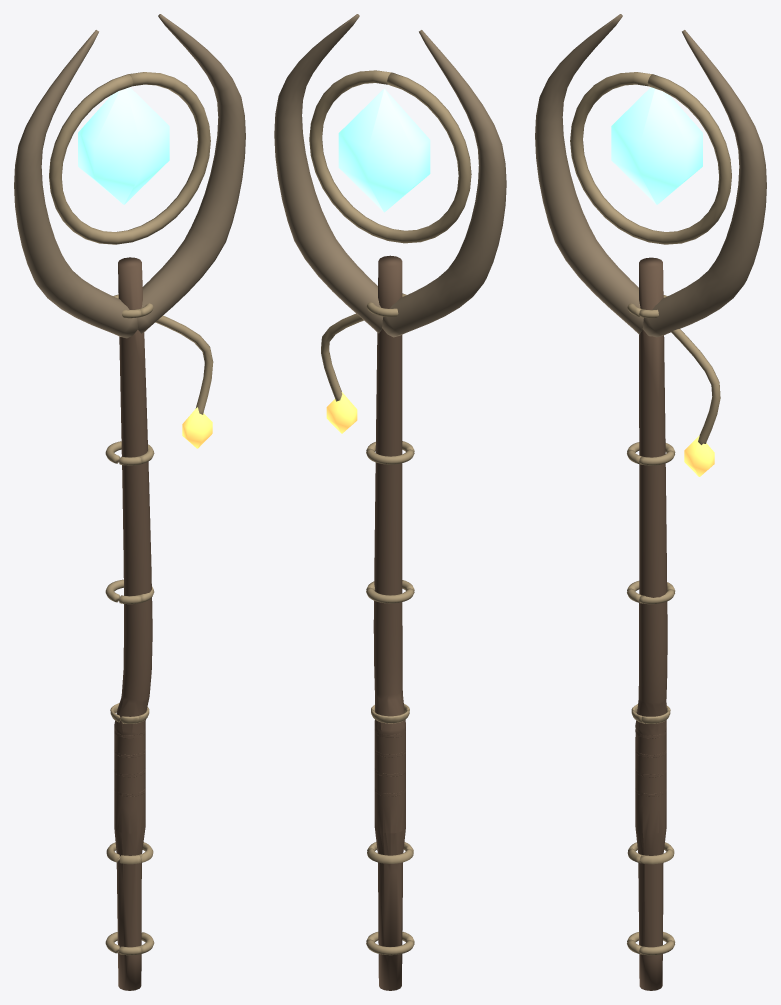
File: guardian_1-fitted.glb
The picture shows the model from 3 angles, left to right: view 1: azimuth 30°, elevation 25°; view 2: azimuth 150°, elevation 25°; view 3: azimuth 330°, elevation 25°; orthographic projection.
Visible parts, largest first — view 1: Weapon__bronze, Weapon__leather, Weapon__gold, Weapon__soul, Weapon__ember; view 2: Weapon__bronze, Weapon__leather, Weapon__gold, Weapon__soul, Weapon__ember; view 3: Weapon__bronze, Weapon__leather, Weapon__gold, Weapon__soul, Weapon__ember.
Boxes of the visible parts, x1=… form: Weapon__bronze: x1=14, y1=14, x2=245, y2=338; Weapon__leather: x1=114, y1=257, x2=152, y2=990; Weapon__gold: x1=49, y1=72, x2=213, y2=955; Weapon__soul: x1=78, y1=87, x2=169, y2=204; Weapon__ember: x1=182, y1=407, x2=212, y2=448; Weapon__bronze: x1=274, y1=14, x2=506, y2=337; Weapon__leather: x1=373, y1=255, x2=405, y2=990; Weapon__gold: x1=309, y1=70, x2=471, y2=955; Weapon__soul: x1=338, y1=88, x2=430, y2=212; Weapon__ember: x1=326, y1=392, x2=357, y2=433; Weapon__bronze: x1=535, y1=14, x2=766, y2=337; Weapon__leather: x1=635, y1=257, x2=667, y2=990; Weapon__gold: x1=570, y1=72, x2=731, y2=955; Weapon__soul: x1=611, y1=87, x2=702, y2=204; Weapon__ember: x1=684, y1=435, x2=714, y2=476.
Size of the model in its own units: 0.5509 by 2.22 by 0.156.
